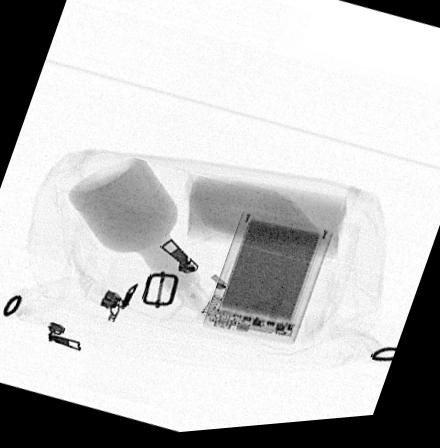Powerbank: (201, 213, 333, 348)
